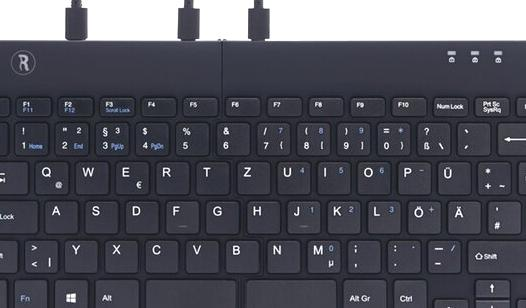0: (374, 120, 410, 156)
1: (12, 120, 47, 155)
2: (53, 119, 89, 155)
3: (92, 119, 129, 155)
4: (133, 119, 168, 155)
5: (173, 120, 208, 155)
6: (213, 120, 249, 155)
7: (254, 120, 290, 156)
8: (294, 120, 329, 155)
9: (334, 120, 370, 156)
a: (42, 198, 77, 232)
accent: (454, 119, 489, 154)
ae: (445, 198, 480, 233)
alt-left: (92, 276, 139, 308)
altgr-right: (339, 276, 386, 308)
b: (222, 237, 259, 272)
c: (142, 237, 178, 272)
caret: (1, 120, 18, 155)
comma: (344, 237, 379, 272)
d: (122, 198, 158, 233)
del: (495, 119, 526, 155)
e: (112, 159, 148, 194)
enter: (515, 157, 526, 233)
f: (162, 198, 198, 233)
g: (202, 198, 238, 233)
h: (243, 198, 279, 233)
hash: (485, 198, 519, 233)
i: (315, 159, 350, 194)
j: (285, 198, 320, 233)
k: (325, 198, 360, 233)
keyboard: (1, 37, 526, 308)
l: (365, 198, 400, 233)
less: (21, 237, 57, 273)
m: (304, 237, 340, 273)
minus: (425, 237, 461, 273)
n: (264, 237, 299, 272)
o: (354, 159, 390, 194)
oe: (405, 198, 440, 234)
p: (395, 159, 431, 194)
plus: (474, 159, 510, 194)
point: (384, 237, 420, 272)
q: (31, 158, 68, 194)
r: (153, 159, 189, 194)
s: (81, 198, 117, 233)
shift-left: (1, 237, 24, 272)
shift-lock: (1, 197, 37, 233)
shift-right: (465, 237, 526, 273)
space: (220, 39, 526, 97), (244, 276, 336, 308), (145, 276, 237, 308)
ss: (414, 119, 449, 155)
strg-left: (1, 276, 18, 308)
strg-right: (390, 276, 426, 308)
t: (193, 159, 228, 194)
tab: (1, 158, 29, 194)
u: (274, 159, 310, 194)
ue: (434, 159, 470, 194)
v: (183, 237, 218, 272)
w: (72, 158, 108, 194)
x: (103, 237, 137, 272)
y: (62, 237, 97, 272)
z: (234, 159, 270, 194)
